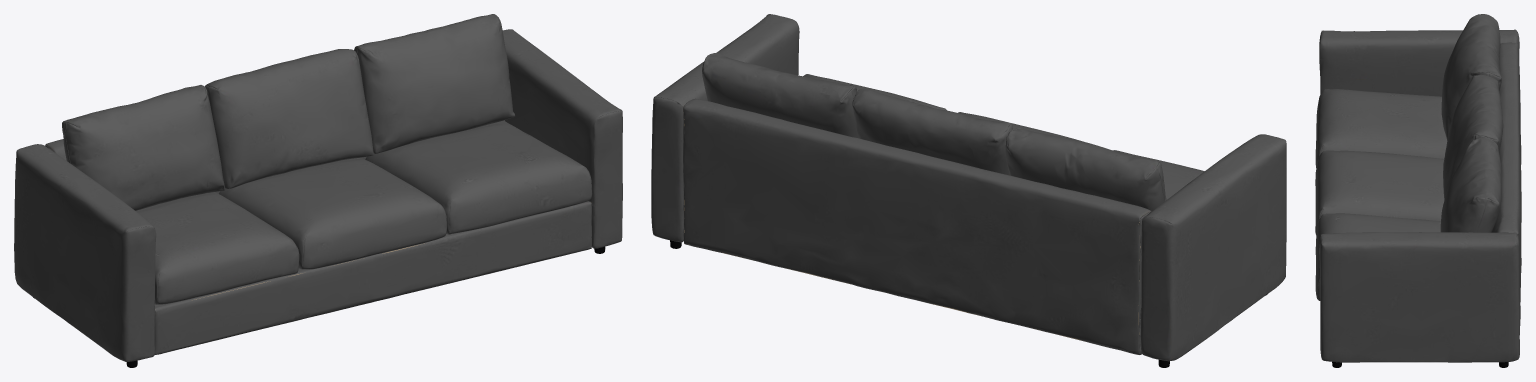
Rendered from ikea-vimle-3.glb.
3 renders of one model, left to right at view 1: azimuth 30°, elevation 25°; view 2: azimuth 150°, elevation 25°; view 3: azimuth 270°, elevation 25°, orthographic. The views are drawn at different scales.
Visible parts, largest first — view 1: 70496097-VIMLE001, 00496114-VIMLE001, 70496097-VIMLE003, 70496097-VIMLE005, 70496097-VIMLE002, 00496114-VIMLE002, 70496097-VIMLE004; view 2: 70496097-VIMLE001, 00496114-VIMLE001, 00496114-VIMLE002, 70496097-VIMLE002, 70496097-VIMLE003, 70496097-VIMLE004; view 3: 00496114-VIMLE002, 70496097-VIMLE001, 00496114-VIMLE001, 70496097-VIMLE004, 70496097-VIMLE003, 70496097-VIMLE002, 70496097-VIMLE005.
Boxes of the visible parts, box(x1,y1,x2,y2) form: 70496097-VIMLE001: box(45, 49, 591, 354); 00496114-VIMLE001: box(14, 144, 156, 367); 70496097-VIMLE003: box(354, 14, 515, 153); 70496097-VIMLE005: box(365, 120, 592, 234); 70496097-VIMLE002: box(62, 85, 224, 210); 00496114-VIMLE002: box(502, 29, 622, 253); 70496097-VIMLE004: box(136, 192, 299, 304); 70496097-VIMLE001: box(683, 88, 1151, 354); 00496114-VIMLE001: box(1140, 134, 1286, 367); 00496114-VIMLE002: box(651, 14, 799, 248); 70496097-VIMLE002: box(1005, 128, 1166, 211); 70496097-VIMLE003: box(702, 52, 858, 138); 70496097-VIMLE004: box(1113, 150, 1204, 199); 00496114-VIMLE002: box(1319, 232, 1519, 367); 70496097-VIMLE001: box(1315, 42, 1521, 334); 00496114-VIMLE001: box(1319, 29, 1519, 96); 70496097-VIMLE004: box(1315, 89, 1447, 167); 70496097-VIMLE003: box(1440, 137, 1501, 232); 70496097-VIMLE002: box(1441, 14, 1501, 140); 70496097-VIMLE005: box(1315, 213, 1440, 300).
Size of the model in its own units: 2.42 by 0.8428 by 0.972.
1 material, 1 textured.
